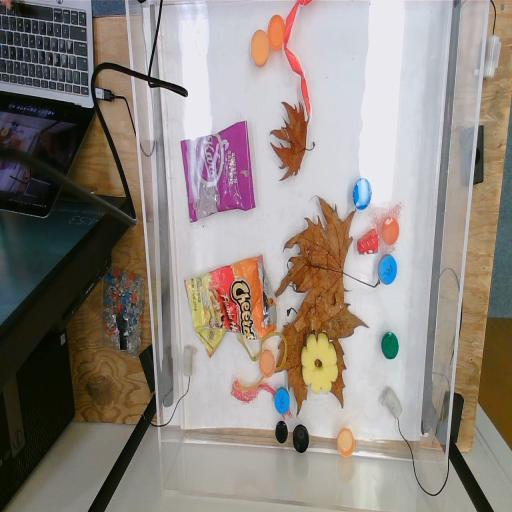Bottle Cap: (250, 28, 270, 67), (353, 176, 372, 212), (268, 12, 286, 50), (336, 427, 356, 459), (378, 254, 397, 286), (380, 332, 400, 360), (292, 424, 310, 454), (382, 216, 400, 246), (258, 349, 276, 378), (274, 387, 290, 415), (275, 421, 288, 444)
Cone Cap: (356, 226, 379, 258)
Leaf: (275, 195, 380, 322), (275, 290, 371, 421), (270, 101, 316, 182)
Netting: (230, 372, 293, 424), (370, 198, 406, 256)
Plastic Bag: (184, 254, 277, 359), (180, 120, 256, 224)
Plastic Strand: (283, 0, 313, 118), (236, 332, 288, 391)
Sponge: (301, 332, 339, 394)
